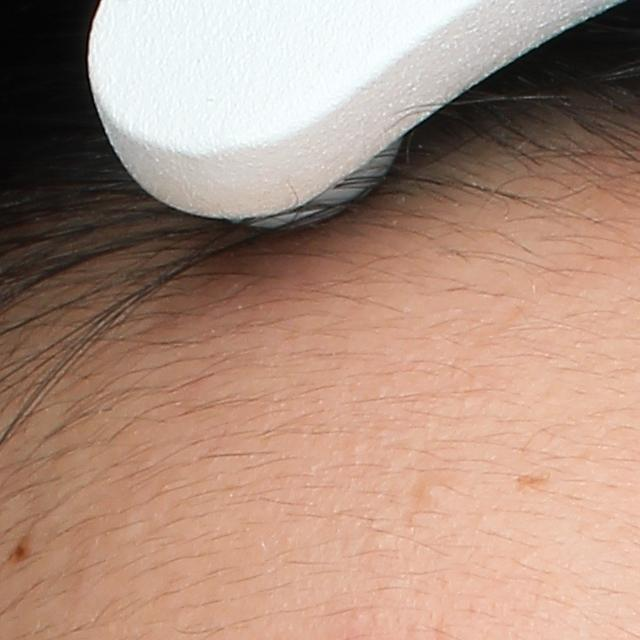atrophic_scar: (514, 472, 547, 490)
comedo: (411, 480, 441, 510)
nevus: (8, 532, 33, 563)
